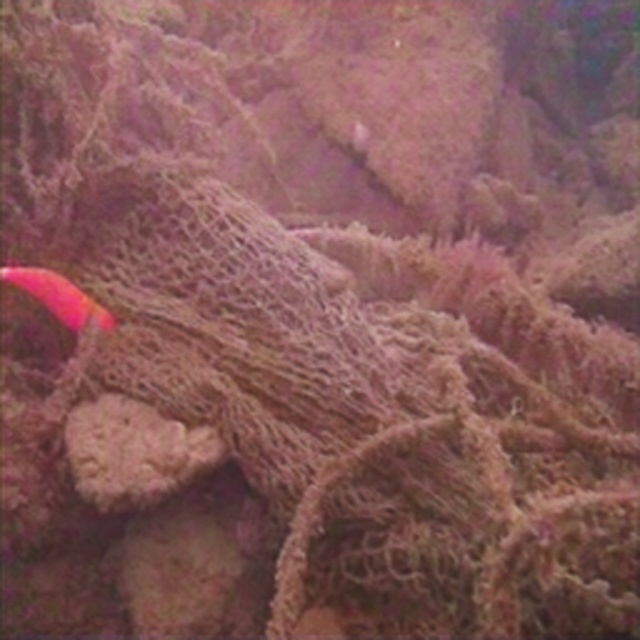mine: (73, 165, 514, 599)
